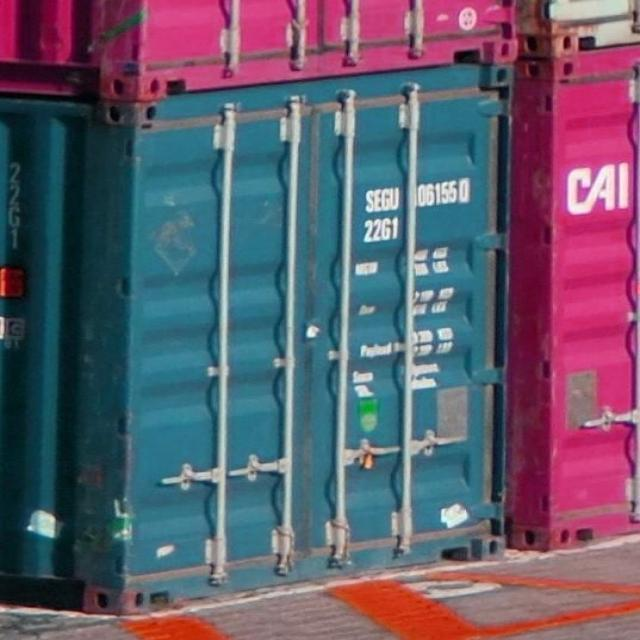ISO: (362, 216, 399, 243)
container_number: (364, 184, 470, 210)
